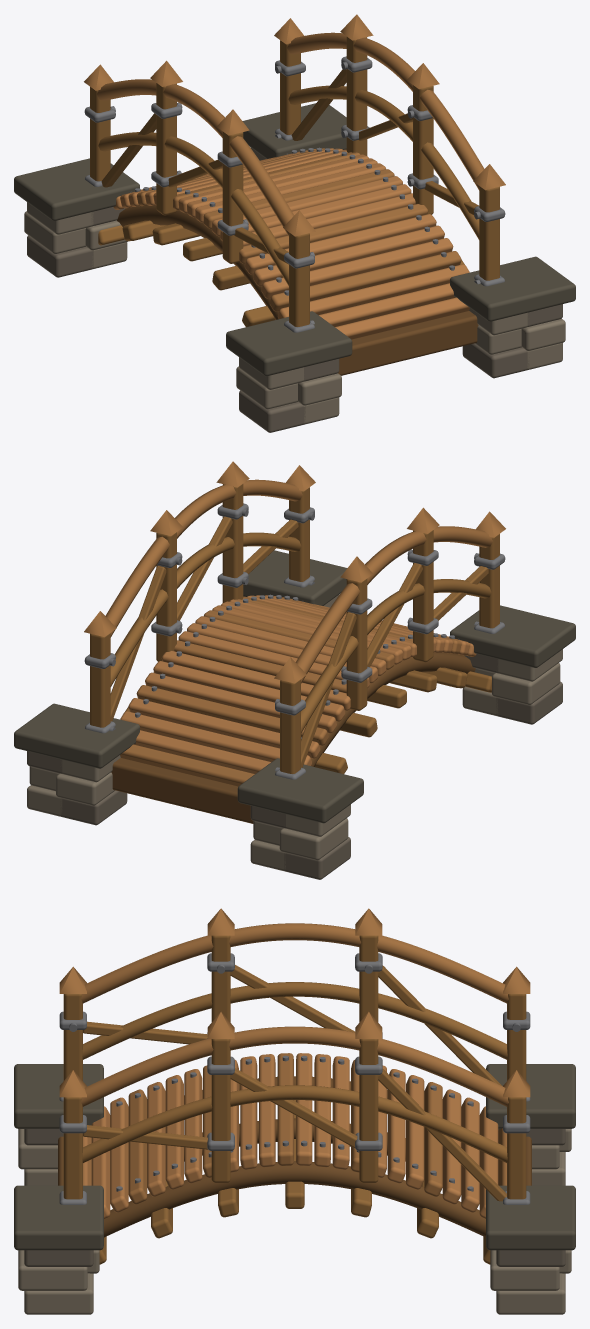
File: footbridge.glb
The picture shows the model from 3 angles, top to bottom: view 1: azimuth 30°, elevation 25°; view 2: azimuth 150°, elevation 25°; view 3: azimuth 270°, elevation 25°; orthographic projection. The views are drawn at different scales.
Parts seen in each view (by area): view 1: footbridge-farm-wood-dark, footbridge-farm-wood-light, footbridge-farm-wood, footbridge-farm-stone-dark, footbridge-farm-stone, footbridge-farm-wood-shadow, footbridge-farm-rock, footbridge-farm-metal; view 2: footbridge-farm-wood-dark, footbridge-farm-wood-light, footbridge-farm-wood, footbridge-farm-stone-dark, footbridge-farm-stone, footbridge-farm-wood-shadow, footbridge-farm-rock, footbridge-farm-metal; view 3: footbridge-farm-wood-dark, footbridge-farm-wood, footbridge-farm-wood-light, footbridge-farm-stone-dark, footbridge-farm-stone, footbridge-farm-wood-shadow, footbridge-farm-metal, footbridge-farm-rock.
Boxes of the visible parts, bbox=[...] form: footbridge-farm-wood-dark: bbox=[90, 37, 499, 326]; footbridge-farm-wood-light: bbox=[113, 148, 469, 339]; footbridge-farm-wood: bbox=[84, 14, 505, 311]; footbridge-farm-stone-dark: bbox=[14, 103, 575, 376]; footbridge-farm-stone: bbox=[24, 147, 565, 424]; footbridge-farm-wood-shadow: bbox=[117, 205, 478, 375]; footbridge-farm-rock: bbox=[27, 207, 562, 432]; footbridge-farm-metal: bbox=[84, 56, 505, 332]; footbridge-farm-wood-dark: bbox=[90, 484, 499, 773]; footbridge-farm-wood-light: bbox=[120, 595, 476, 773]; footbridge-farm-wood: bbox=[84, 461, 505, 786]; footbridge-farm-stone-dark: bbox=[14, 550, 575, 823]; footbridge-farm-stone: bbox=[27, 594, 562, 871]; footbridge-farm-wood-shadow: bbox=[111, 652, 475, 823]; footbridge-farm-rock: bbox=[27, 654, 562, 879]; footbridge-farm-metal: bbox=[84, 503, 505, 779]; footbridge-farm-wood-dark: bbox=[63, 935, 526, 1264]; footbridge-farm-wood: bbox=[59, 908, 530, 1204]; footbridge-farm-wood-light: bbox=[83, 1053, 498, 1218]; footbridge-farm-stone-dark: bbox=[14, 1064, 575, 1250]; footbridge-farm-stone: bbox=[18, 1129, 571, 1314]; footbridge-farm-wood-shadow: bbox=[58, 1076, 531, 1237]; footbridge-farm-metal: bbox=[59, 953, 530, 1204]; footbridge-farm-rock: bbox=[24, 1129, 565, 1273].
Bounding box in the file's own units: 3.35 × 2.54 × 4.69.
